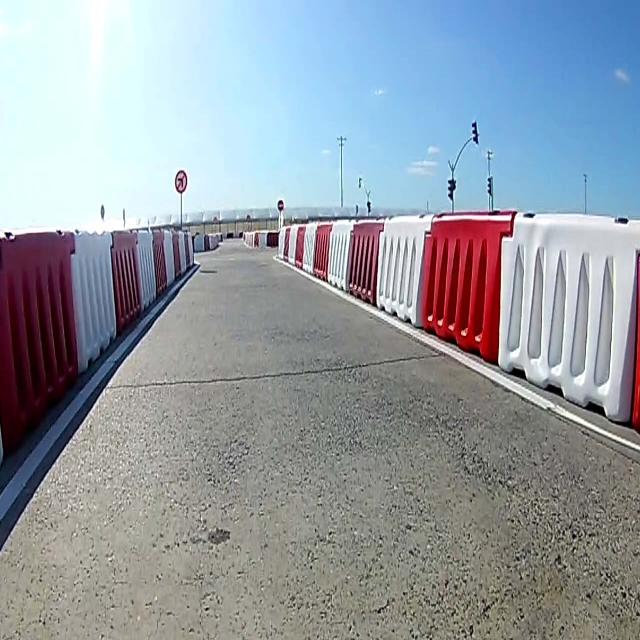girisyok: (276, 199, 284, 212)
soladonulmez: (175, 170, 188, 193)
